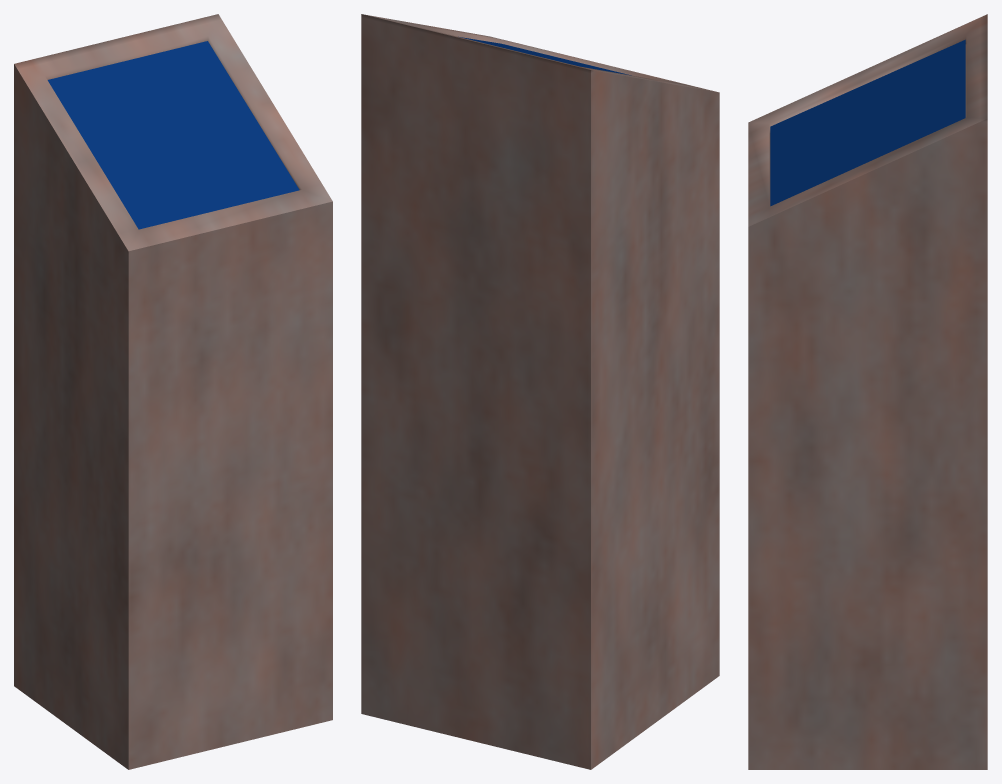
File: Console.fbx
The picture shows the model from 3 angles, left to right: view 1: azimuth 30°, elevation 25°; view 2: azimuth 150°, elevation 25°; view 3: azimuth 270°, elevation 25°; orthographic projection. The views are drawn at different scales.
Visible parts, largest first — view 1: Console, Screen; view 2: Console; view 3: Console, Screen.
Part boxes in pixels (<box>): Console: <box>14,14,332,769</box>; Screen: <box>47,41,299,229</box>; Console: <box>361,14,719,769</box>; Console: <box>748,14,987,769</box>; Screen: <box>770,39,965,206</box>.
Size of the model in its own units: 0.5155 by 1.5 by 0.5.
